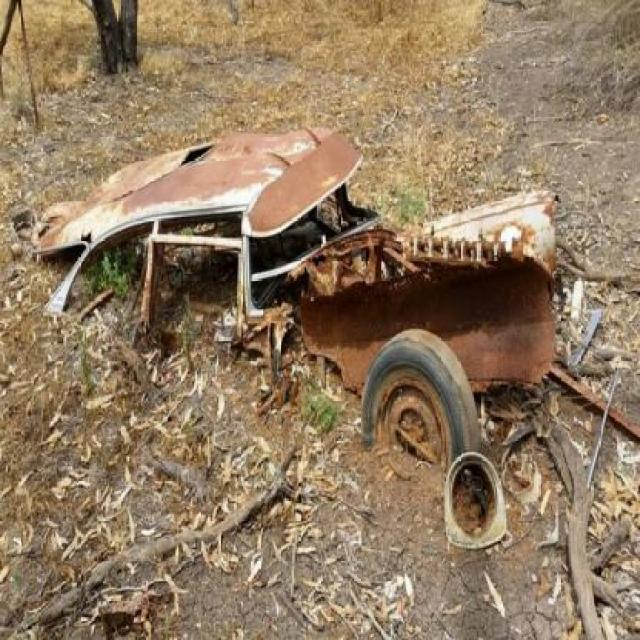corrosion: (40, 129, 557, 468)
